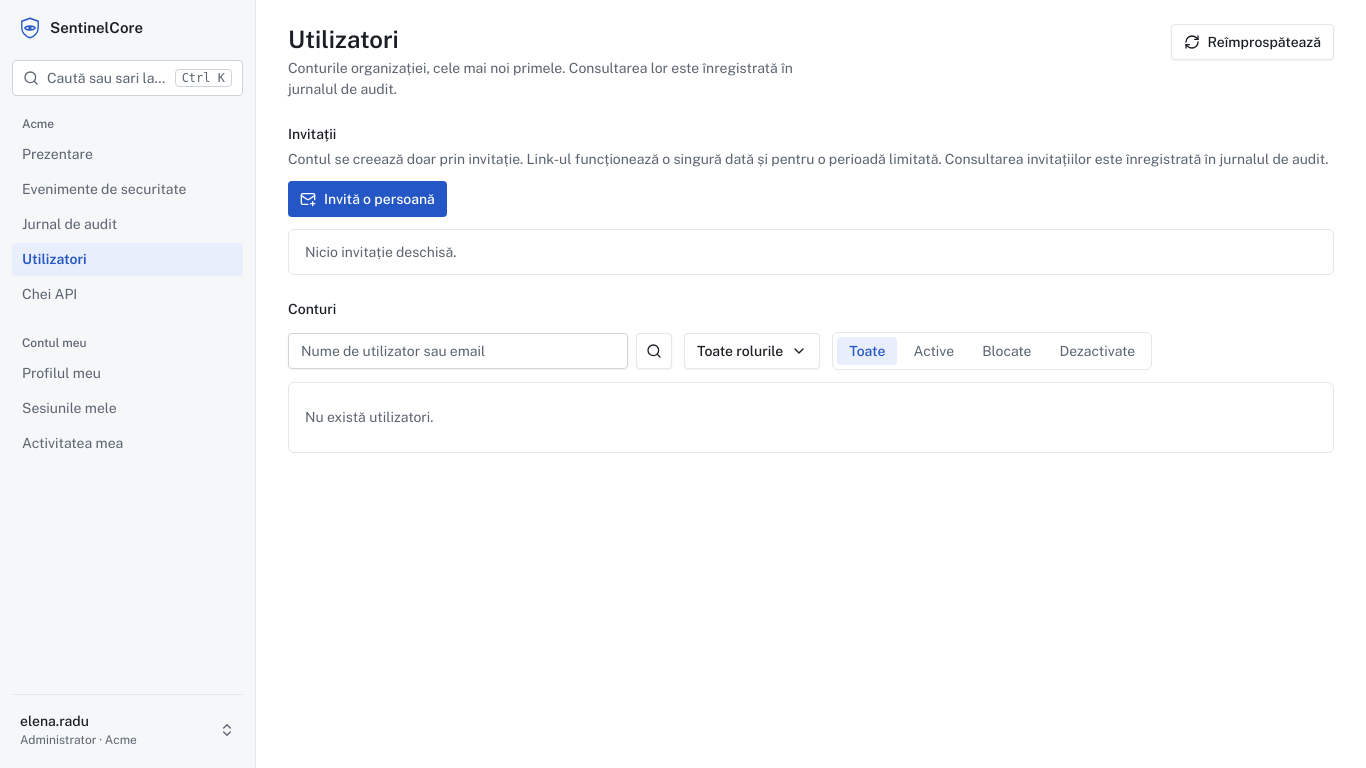
invitations on the users page › says when the email already has an account
Click the button "Invită o persoană" at (367, 199), box left=288, top=181, right=447, bottom=217
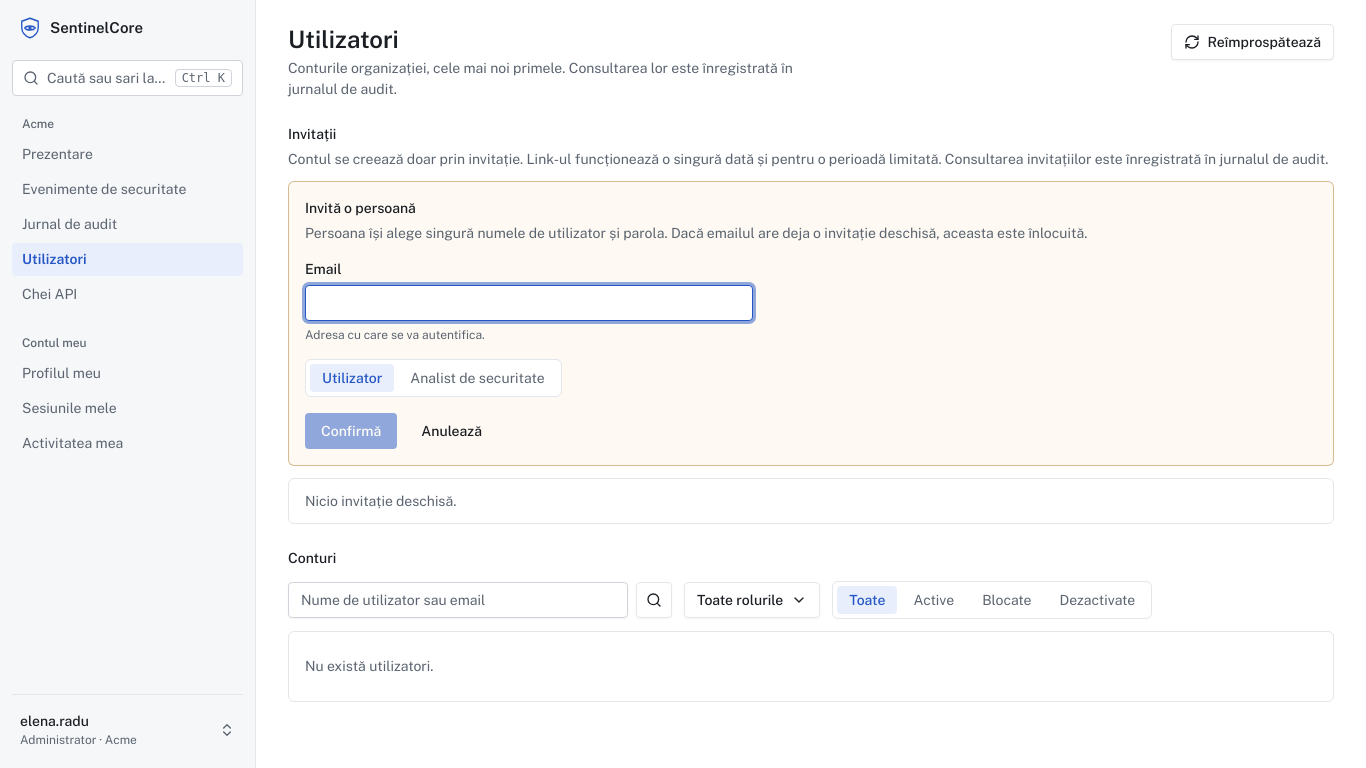
Type "mihai.pop@example.com" into the field labelled "Email" at (529, 303), box left=305, top=285, right=753, bottom=321
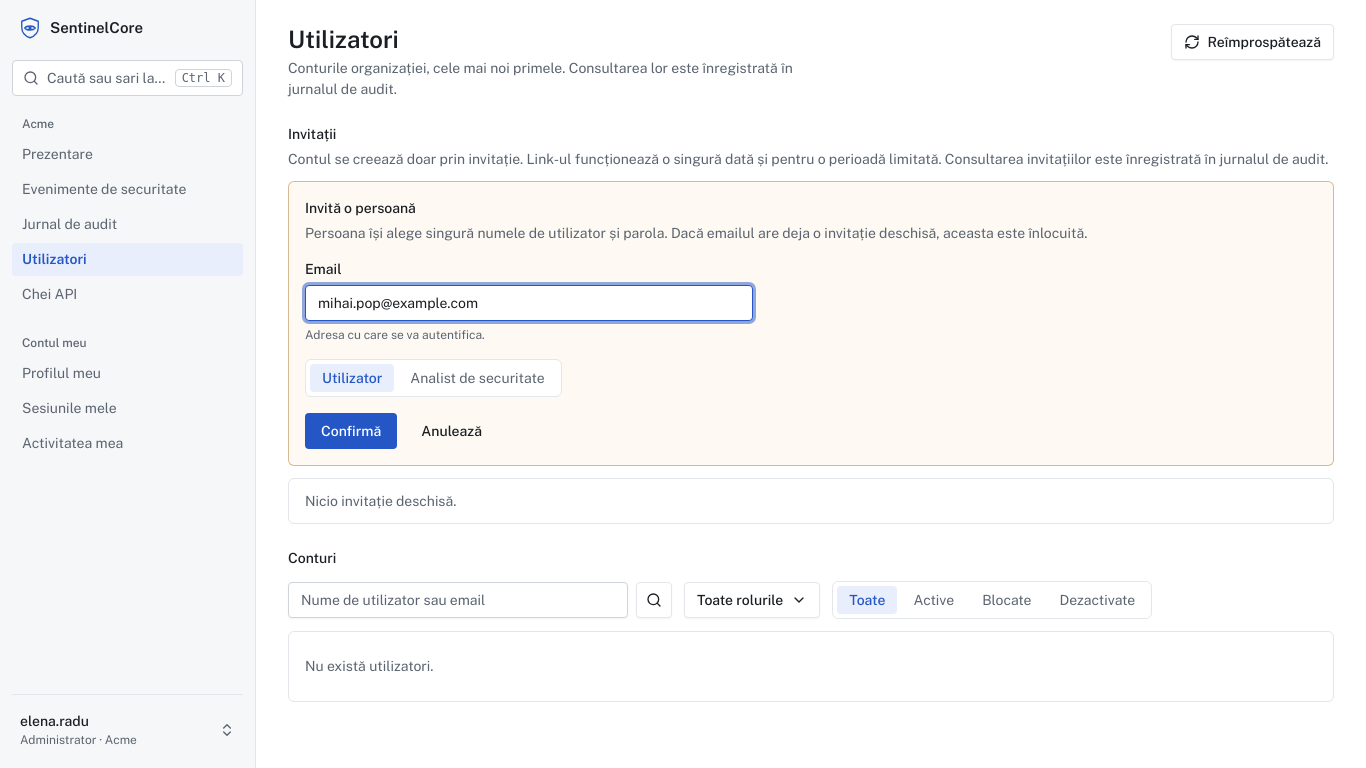
Click the button "Confirmă" at (351, 431), box left=305, top=413, right=397, bottom=449
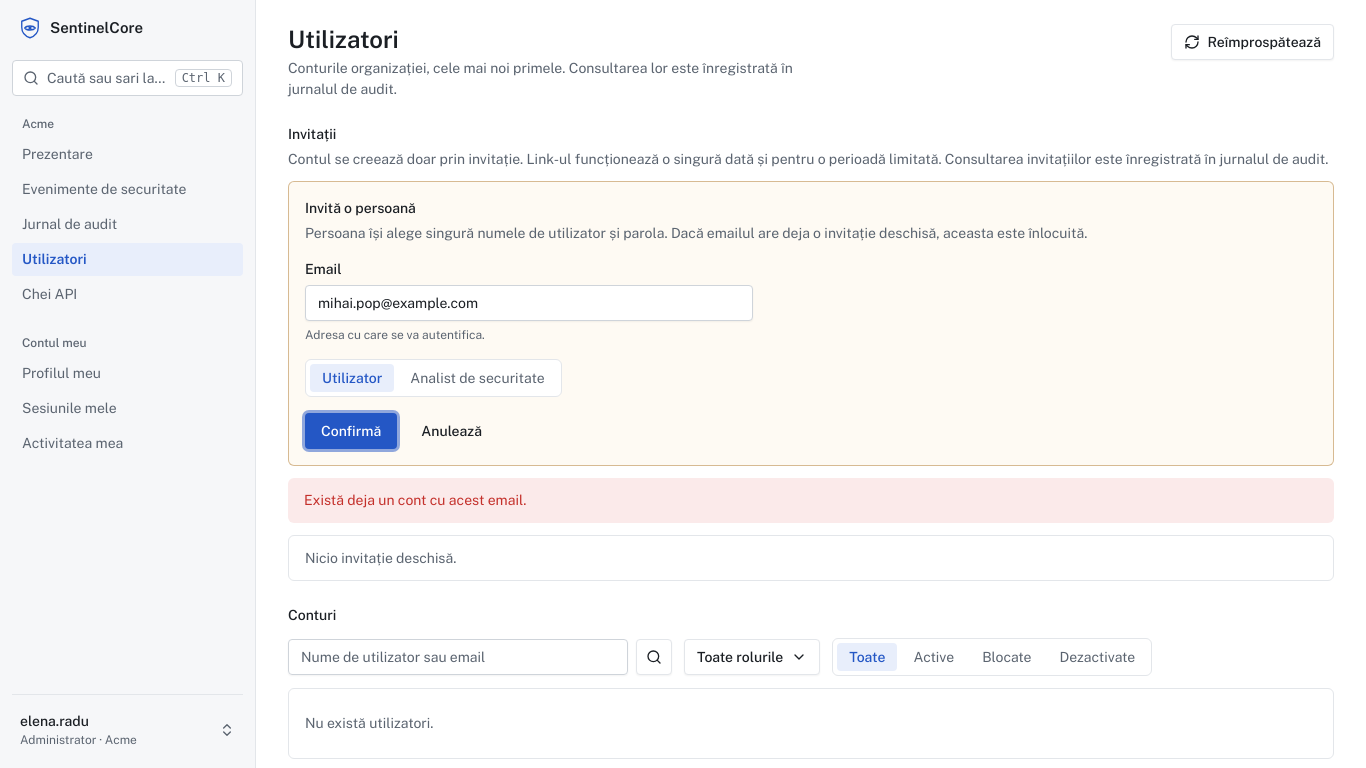
expect the message reads "Există deja un cont cu acest email.": met, box left=304, top=492, right=526, bottom=508
